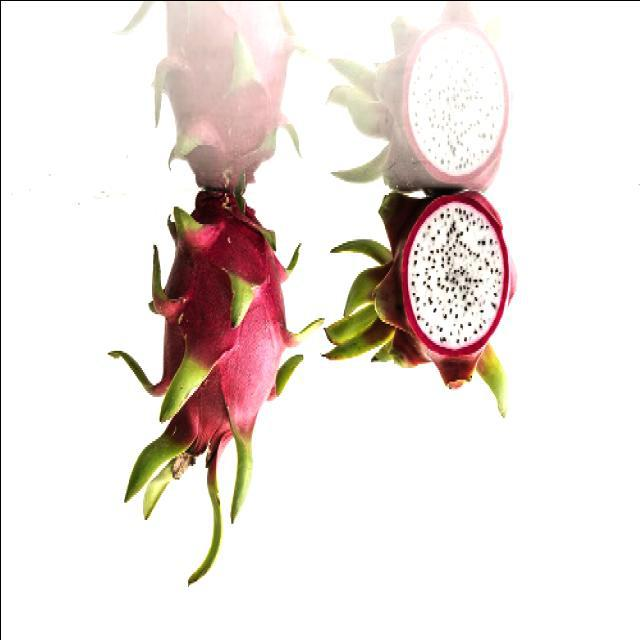trang: (103, 161, 325, 587), (324, 180, 520, 420)
